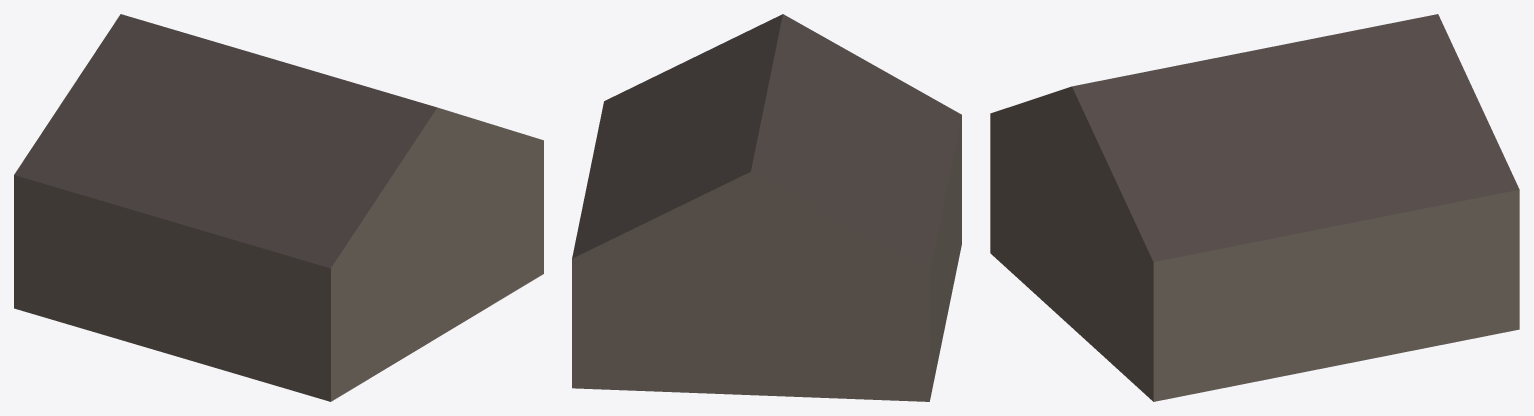
3 views of the same model, side by side, from view 1: azimuth 30°, elevation 25°; view 2: azimuth 150°, elevation 25°; view 3: azimuth 270°, elevation 25° (orthographic). The views are drawn at different scales.
Parts seen in each view (by area): view 1: HP-w859488805; view 2: HP-w859488805; view 3: HP-w859488805.
Part boxes in pixels (x1,y1,x2,y2): HP-w859488805: [14, 14, 543, 401]; HP-w859488805: [572, 14, 961, 401]; HP-w859488805: [990, 14, 1519, 401].
Size of the model in its own units: 20.36 by 10.36 by 20.6.
